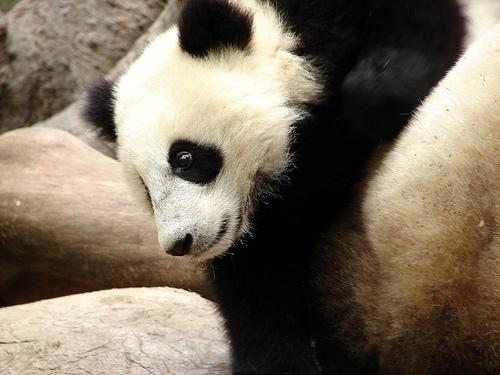panda: (82, 0, 499, 374)
